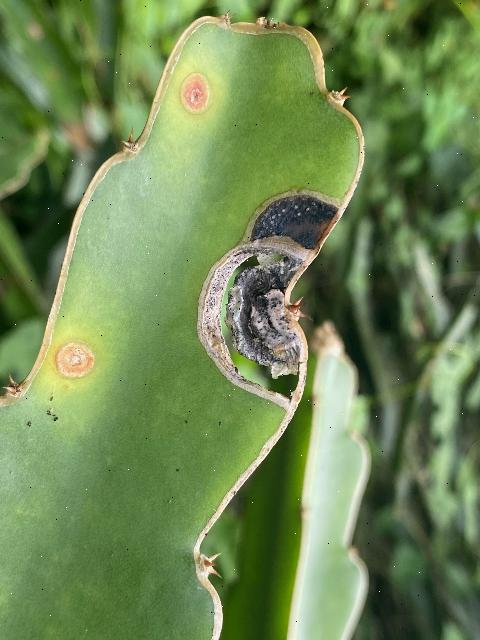stemcanker: (195, 190, 346, 409), (42, 331, 106, 390), (167, 65, 219, 127)
